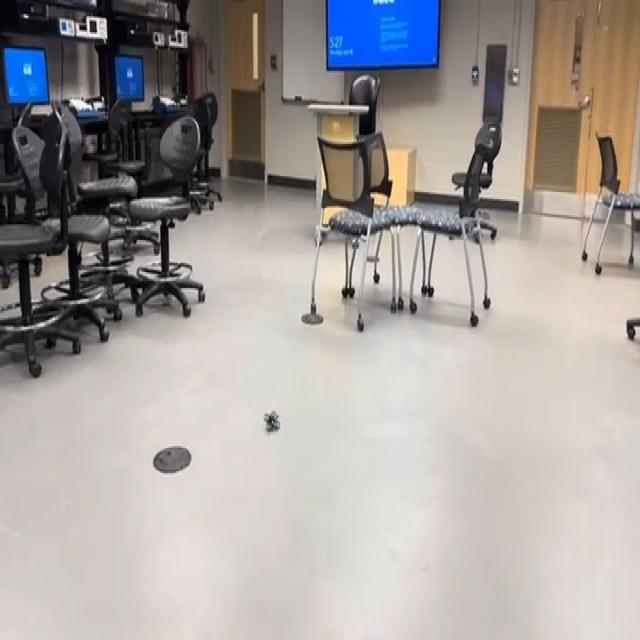drone: (258, 390, 288, 446)
